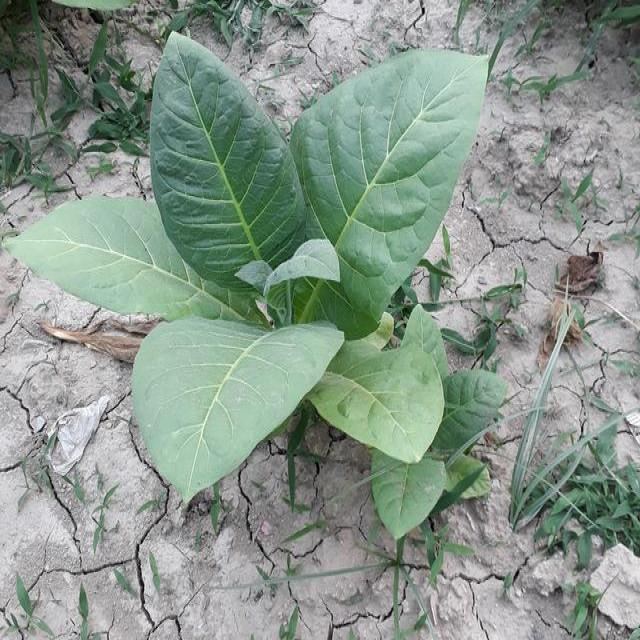crop: (0, 31, 495, 540)
